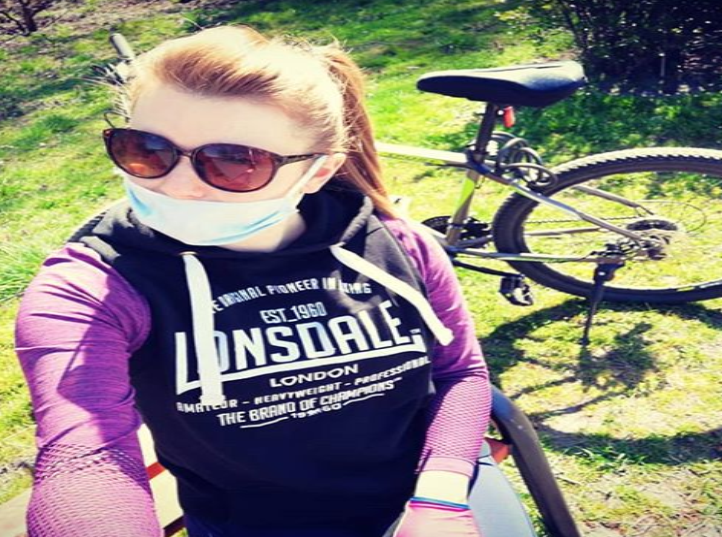mask_weared_incorrect: (96, 30, 359, 249)
